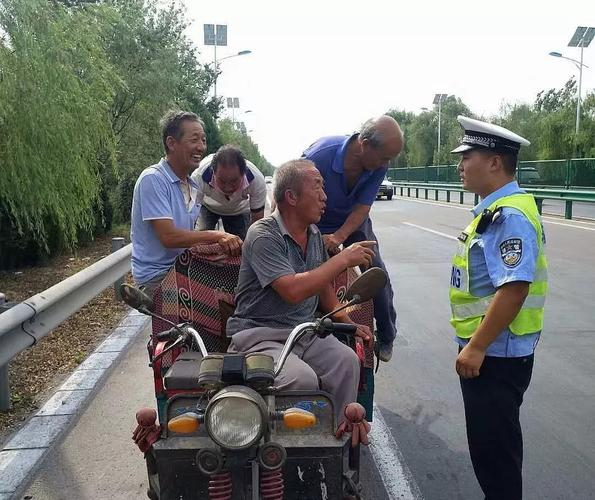driver: (245, 162, 359, 421)
overloading: (114, 96, 409, 500)
passenger: (131, 98, 217, 308), (311, 111, 400, 256), (206, 142, 264, 233)
